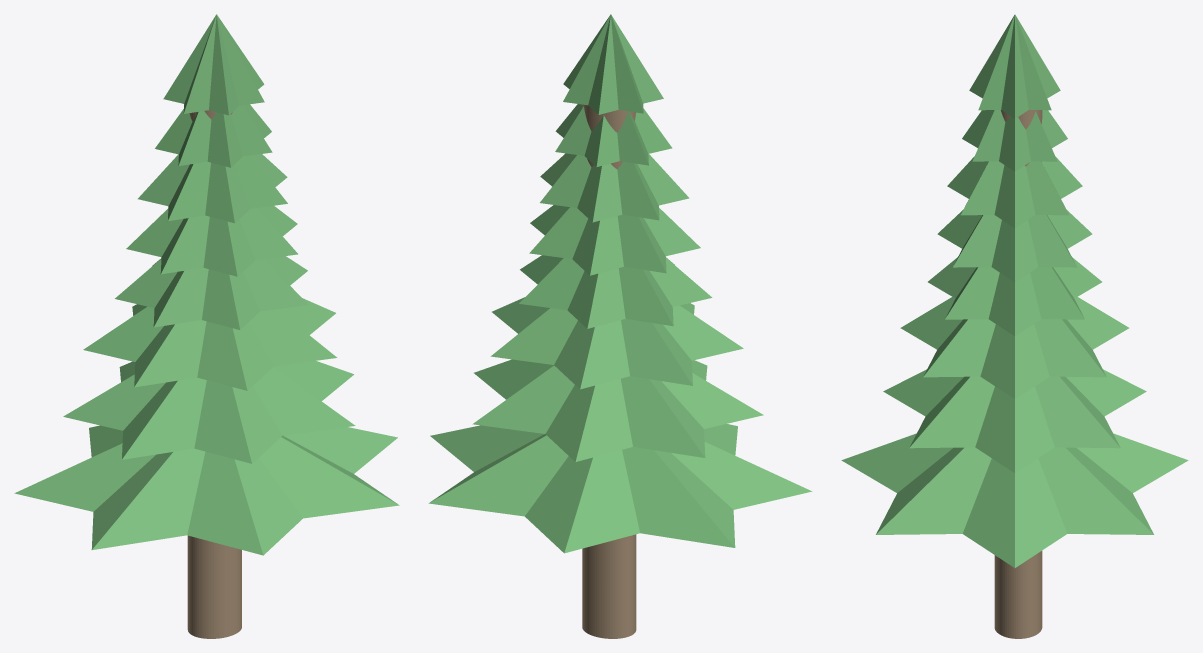
The model's file is Tree.glb.
The picture shows the model from 3 angles, left to right: view 1: azimuth 30°, elevation 25°; view 2: azimuth 150°, elevation 25°; view 3: azimuth 270°, elevation 25°; orthographic projection.
Parts seen in each view (by area): view 1: Mesh_Mesh_head_geo.001_lambert2SG.001; view 2: Mesh_Mesh_head_geo.001_lambert2SG.001; view 3: Mesh_Mesh_head_geo.001_lambert2SG.001.
Part boxes in pixels (x1=…): Mesh_Mesh_head_geo.001_lambert2SG.001: x1=14, y1=14, x2=399, y2=638; Mesh_Mesh_head_geo.001_lambert2SG.001: x1=428, y1=14, x2=812, y2=638; Mesh_Mesh_head_geo.001_lambert2SG.001: x1=841, y1=14, x2=1188, y2=638.
Size of the model in its own units: 0.064 by 0.109 by 0.056.
